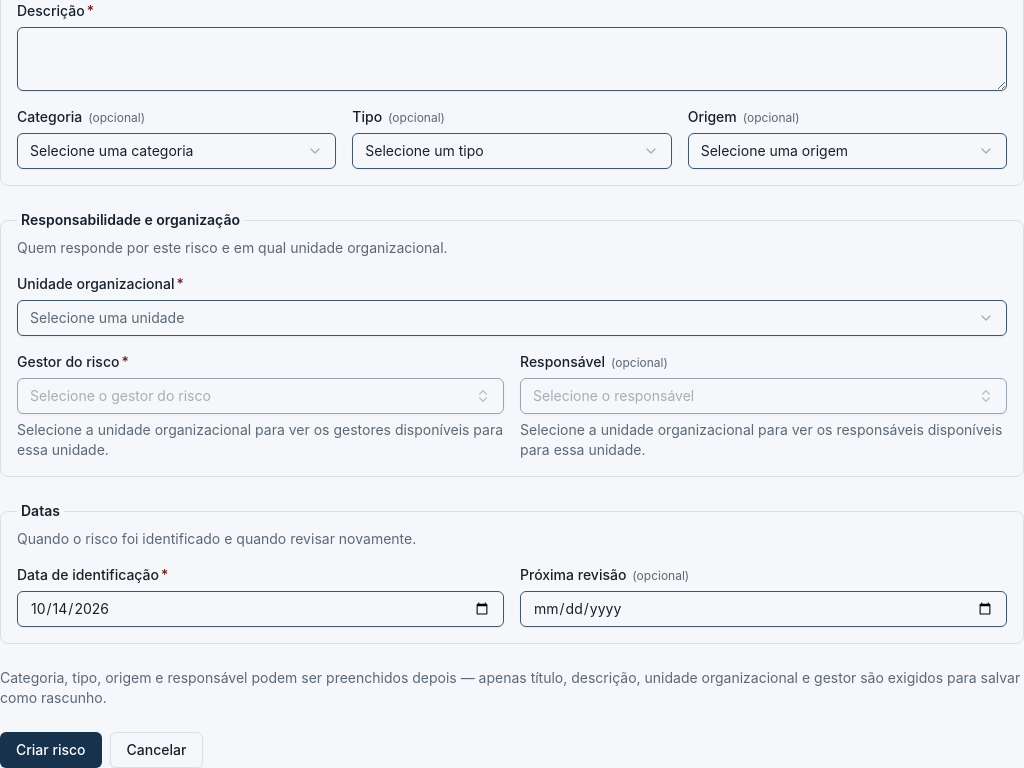
Test: RiskForm › requires title, description, org unit and owner before it may be saved (FR-055)
The image size is (1024, 768).
(page scrolled)
What coordinates should you click on to do the following:
click the button "Criar risco"
I would click on:
 (51, 750)
Its box is [0,732,102,767].
(page scrolled)
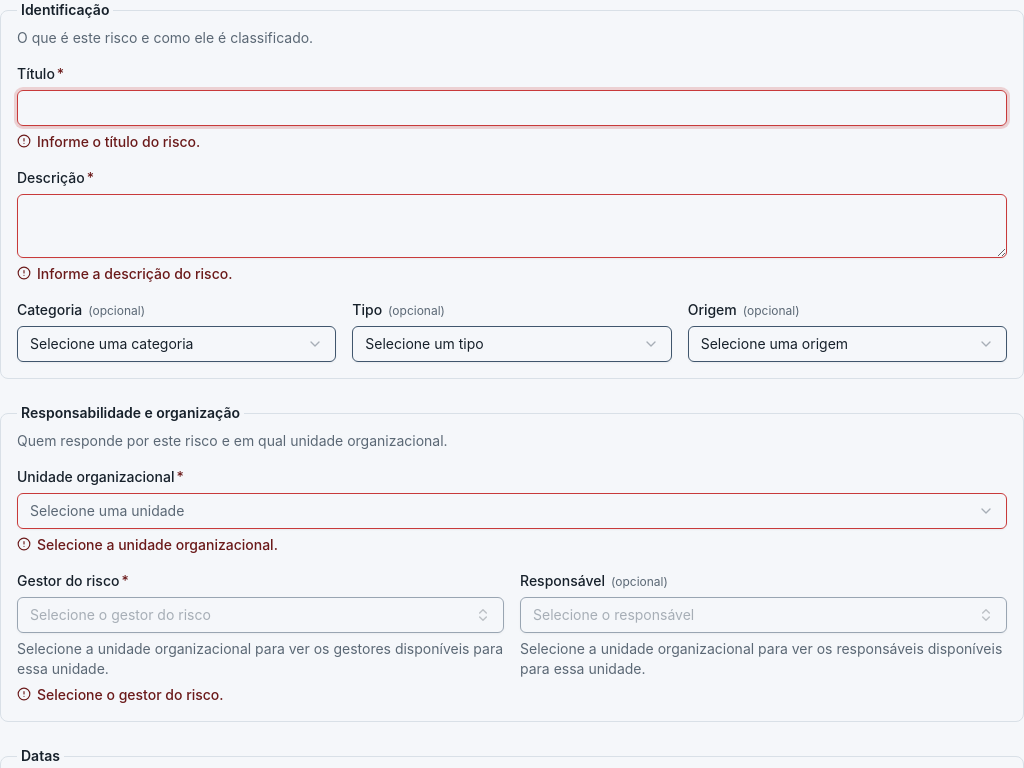
Expected: the text "Informe o título do risco." is shown, [37,132,200,152]
Expected: the text "Informe a descrição do risco." is shown, [37,264,232,284]
Expected: the text "Selecione a unidade organizacional." is shown, [37,535,278,555]
